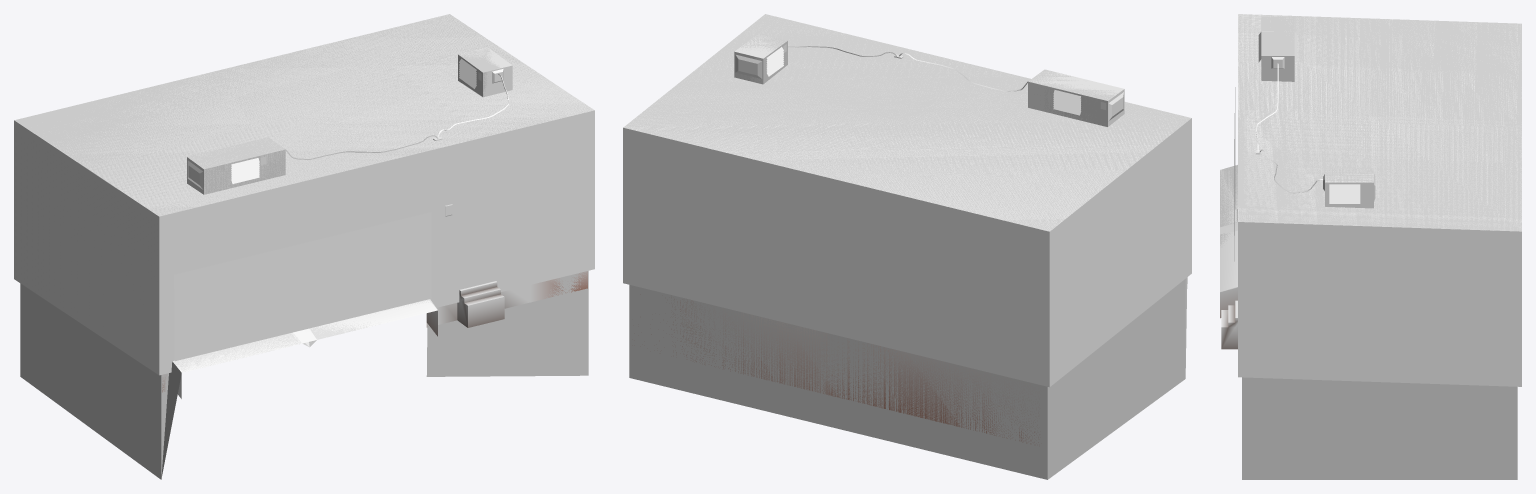
The model's file is ut_auto_repairs.dae.
3 renders of one model, left to right at view 1: azimuth 30°, elevation 25°; view 2: azimuth 150°, elevation 25°; view 3: azimuth 270°, elevation 25°, orthographic. The views are drawn at different scales.
Visible parts, largest first — view 1: ind_bld_a10, Colmesh-1, ind_bld_a800, ind_bld_a80; view 2: Colmesh-1, ind_bld_a10, ind_bld_a800, ind_bld_a80; view 3: Colmesh-1, ind_bld_a10, ind_bld_a800, ind_bld_a80.
Boxes of the visible parts, x1,y1,x2,y2 form: ind_bld_a10: [14, 110, 594, 375]; Colmesh-1: [14, 14, 593, 479]; ind_bld_a800: [14, 14, 594, 398]; ind_bld_a80: [14, 67, 593, 218]; Colmesh-1: [623, 14, 1191, 479]; ind_bld_a10: [623, 123, 1191, 387]; ind_bld_a800: [623, 15, 1191, 443]; ind_bld_a80: [623, 57, 1191, 235]; Colmesh-1: [1220, 14, 1521, 479]; ind_bld_a10: [1234, 87, 1521, 386]; ind_bld_a800: [1220, 14, 1521, 349]; ind_bld_a80: [1240, 182, 1521, 237].
Bounding box in the file's own units: 14.28 × 8.76 × 9.1.
